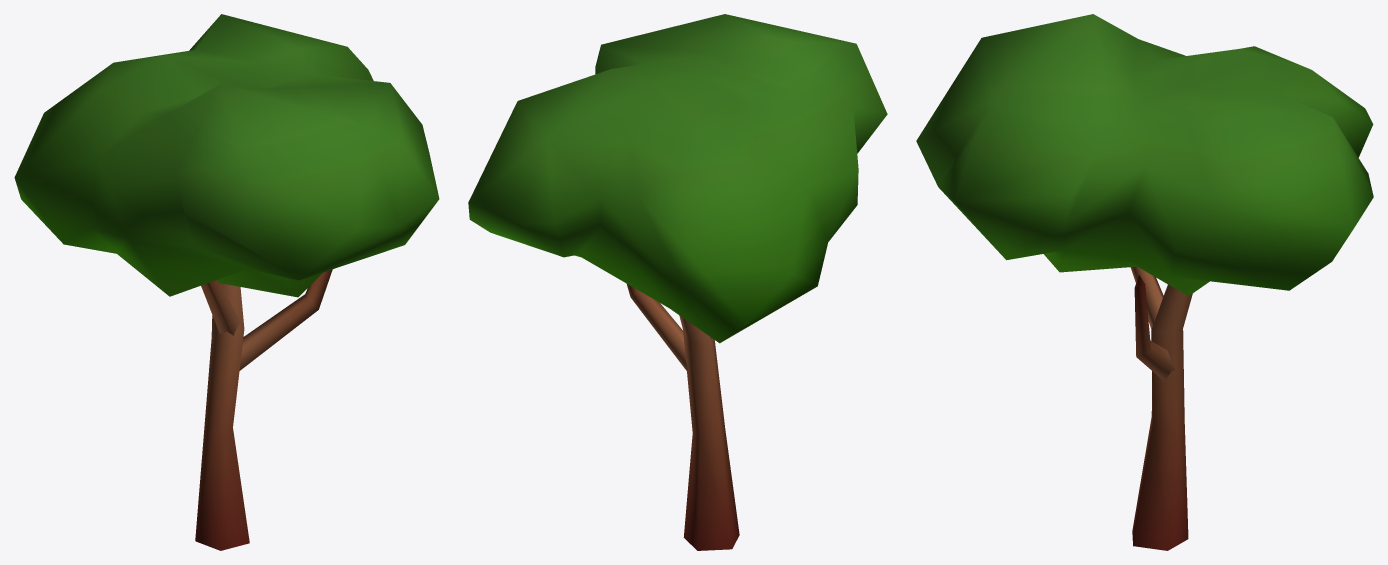
Rendered from SM_Tree_05.fbx.
3 views of the same model, side by side, from view 1: azimuth 30°, elevation 25°; view 2: azimuth 150°, elevation 25°; view 3: azimuth 270°, elevation 25° (orthographic). The views are drawn at different scales.
Parts seen in each view (by area): view 1: SM_Tree_05; view 2: SM_Tree_05; view 3: SM_Tree_05.
Boxes of the visible parts, x1=… form: SM_Tree_05: x1=14, y1=14, x2=439, y2=550; SM_Tree_05: x1=468, y1=14, x2=887, y2=550; SM_Tree_05: x1=916, y1=14, x2=1373, y2=550.
Size of the model in its own units: 0.3339 by 0.4776 by 0.3903.
